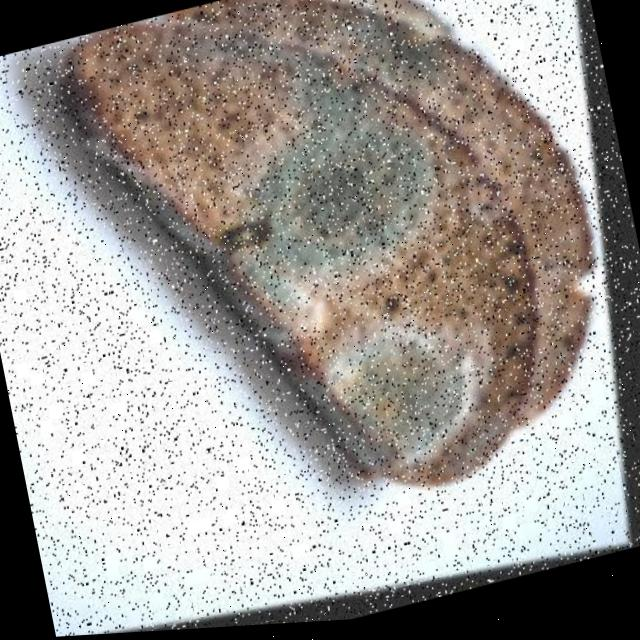Wet: (0, 0, 637, 547)
